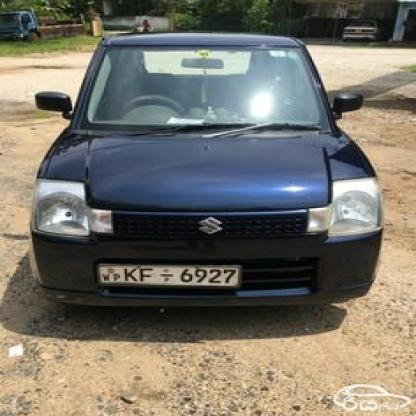car front: (22, 29, 388, 311)
number plate: (95, 263, 239, 284)
